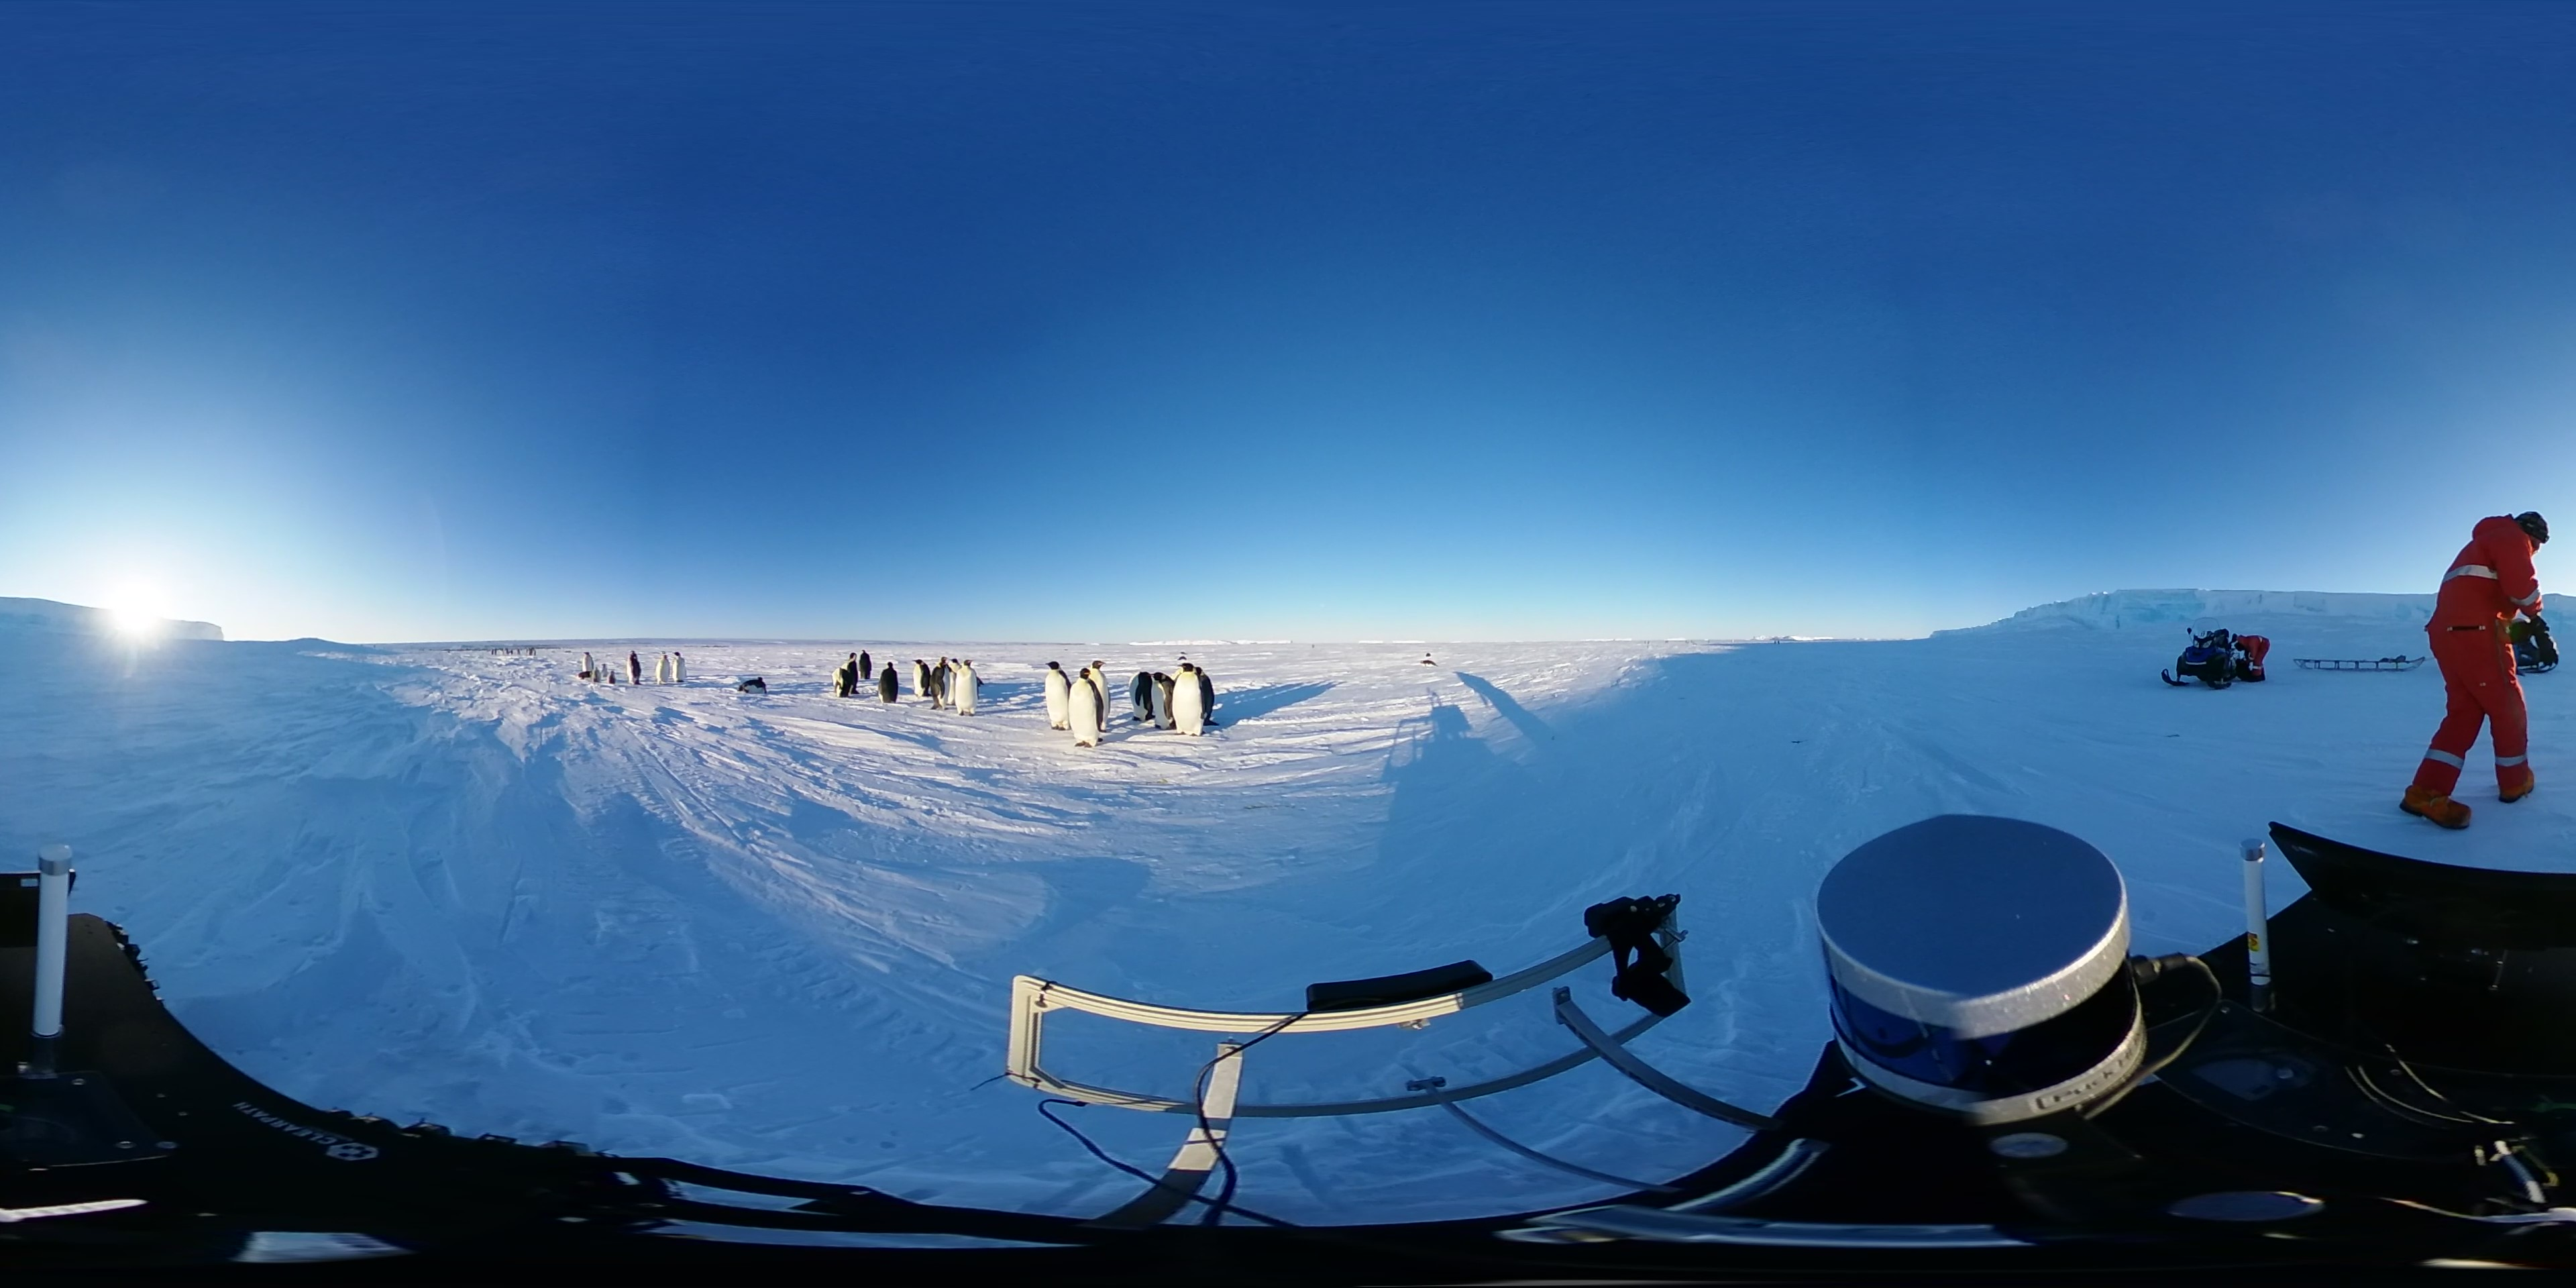adult_standing_penguin: (1170, 660, 1214, 741), (1068, 665, 1109, 751), (1040, 659, 1079, 731), (1124, 669, 1160, 723), (953, 657, 984, 720), (1148, 670, 1173, 733), (874, 662, 900, 706), (908, 655, 930, 697)
adult_toboggan_penguin: (734, 669, 774, 698)
researcher: (2394, 498, 2561, 839), (2231, 631, 2275, 683)
